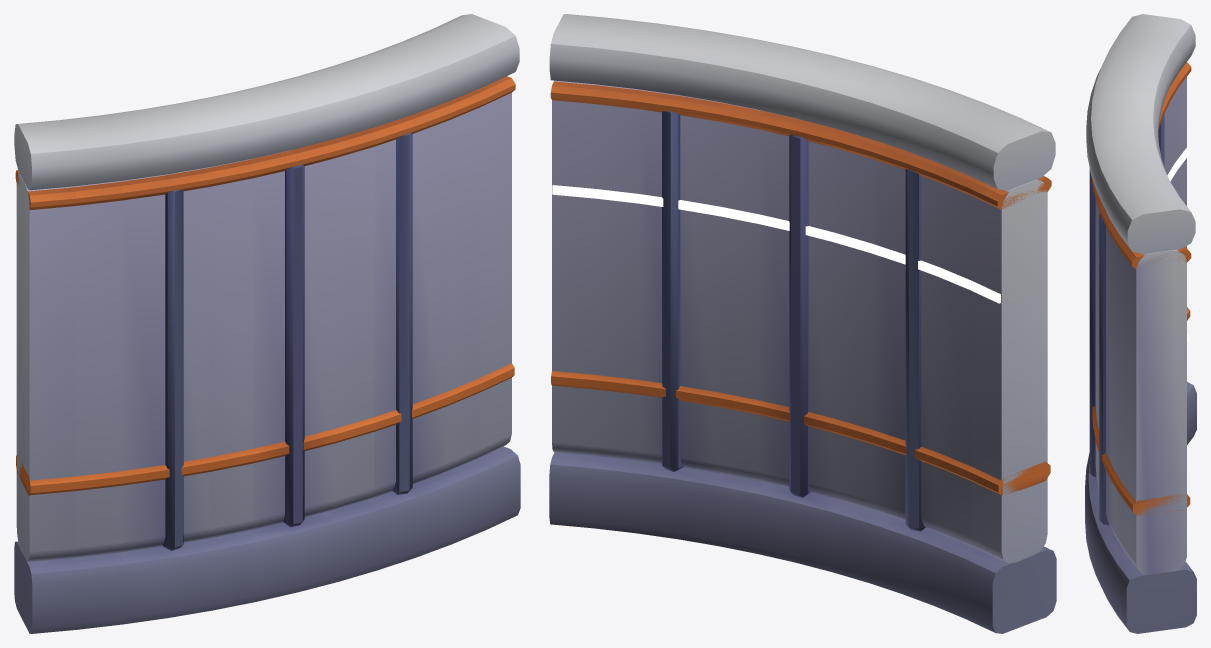
File: hub_ruin_wall_curved.glb
3 renders of one model, left to right at view 1: azimuth 30°, elevation 25°; view 2: azimuth 150°, elevation 25°; view 3: azimuth 270°, elevation 25°, orthographic. The views are drawn at different scales.
Visible parts, largest first — view 1: hub_ruin_wall_curved; view 2: hub_ruin_wall_curved; view 3: hub_ruin_wall_curved.
Part boxes in pixels (<box>): hub_ruin_wall_curved: <box>14,14,520,633</box>; hub_ruin_wall_curved: <box>549,14,1056,633</box>; hub_ruin_wall_curved: <box>1085,14,1196,633</box>.
Bounding box in the file's own units: 4.2 × 4 × 0.9677.
